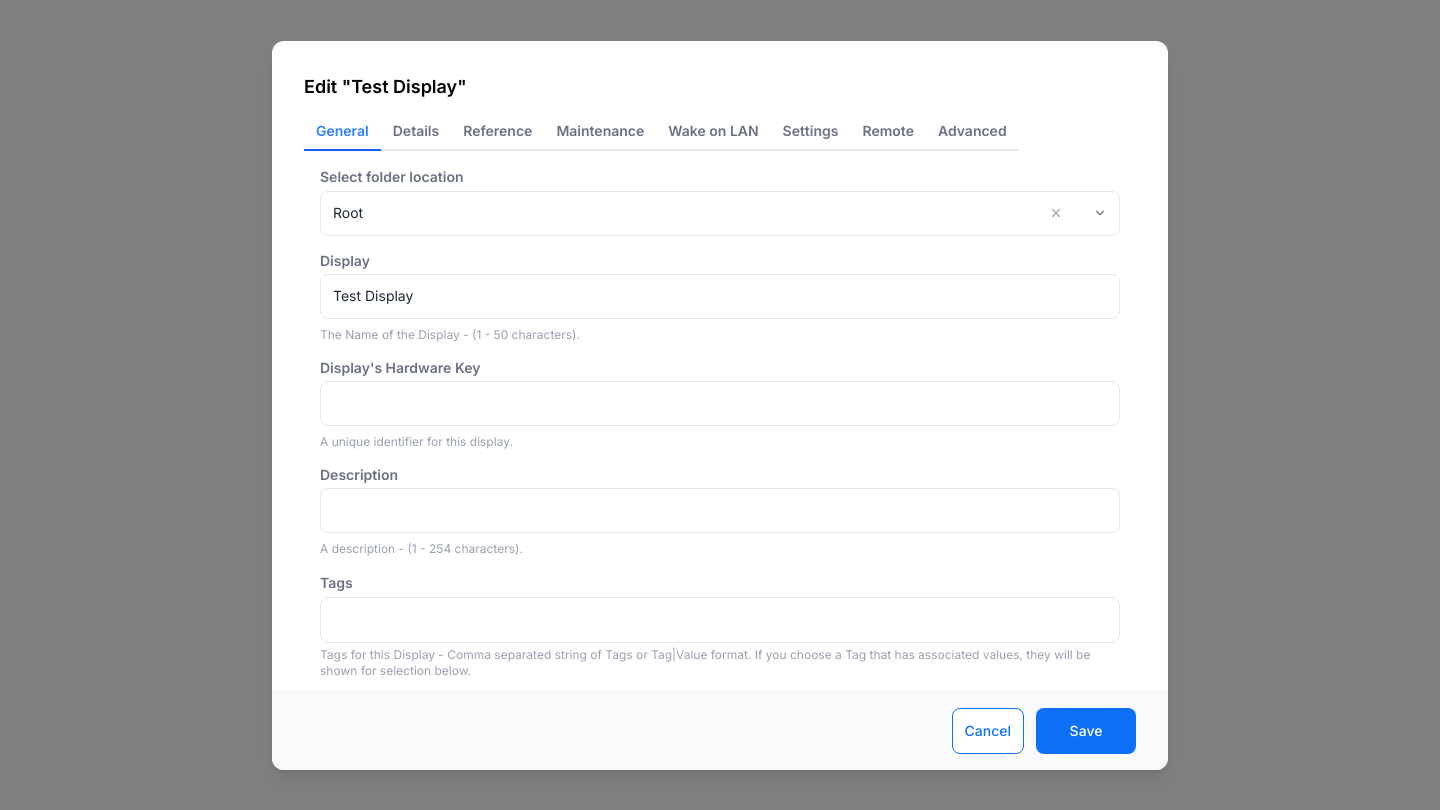
Test: Display - edit form fields › Reference tab renders reference input fields
The image size is (1440, 810).
Check: the dialog is shown, box [272,40,1168,770]
Click the tab "Reference" at (498,132), box [451,112,544,150]
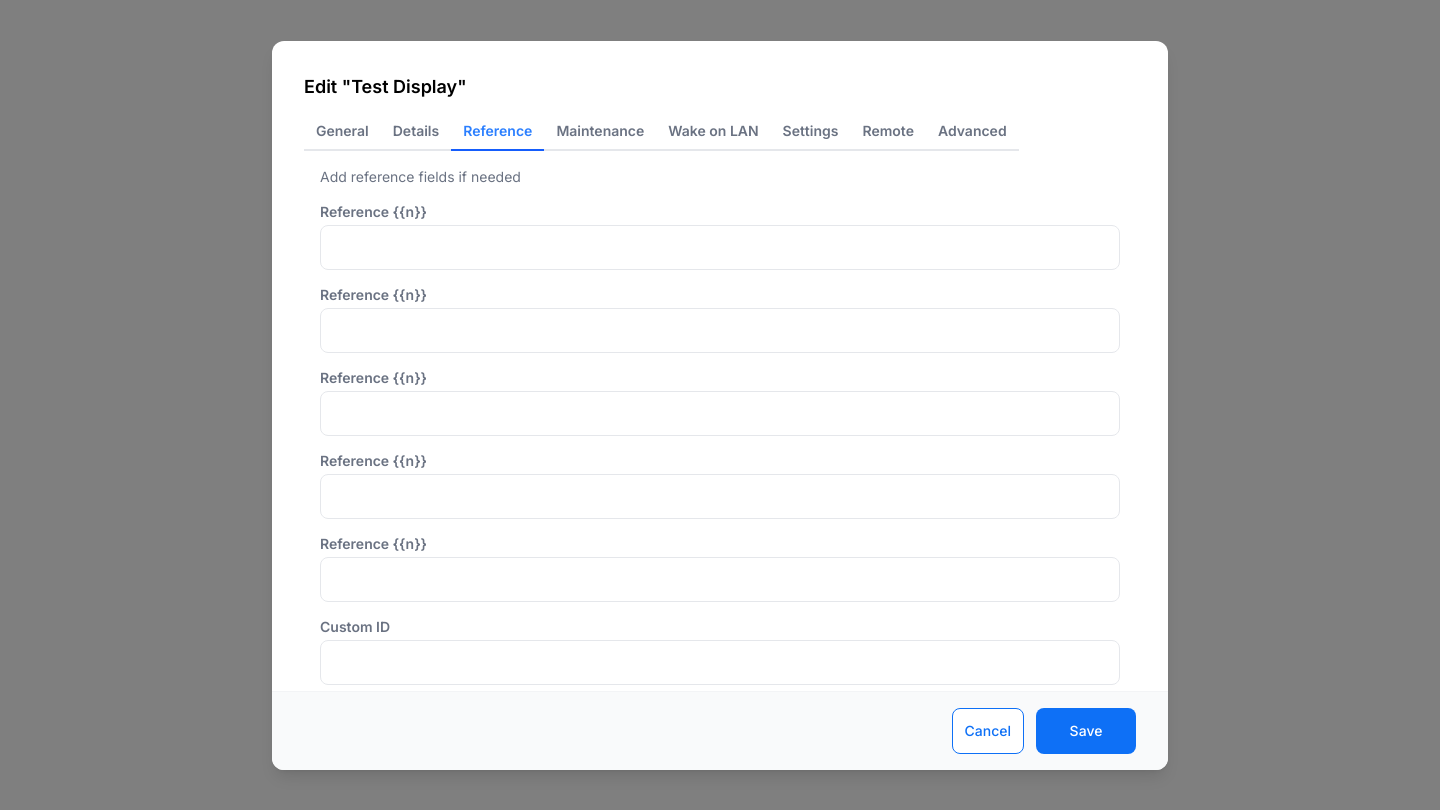
Check: the number of fields labelled "Reference {{n}}" is 5, box [321,226,1119,268]; [321,308,1119,352]; [321,392,1119,434]; [321,474,1119,518]; [321,558,1119,600]
